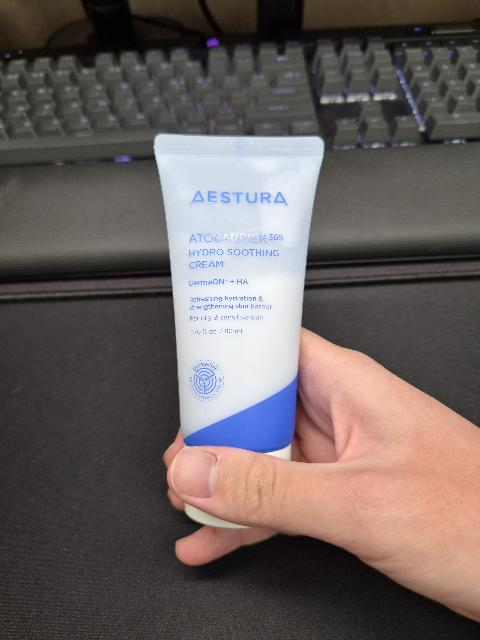handcream: (154, 133, 324, 528)
